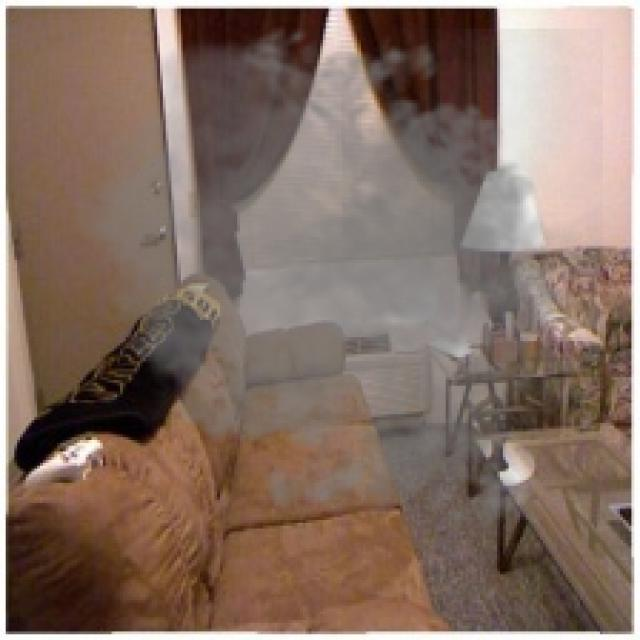Smoke: (51, 17, 603, 543)
